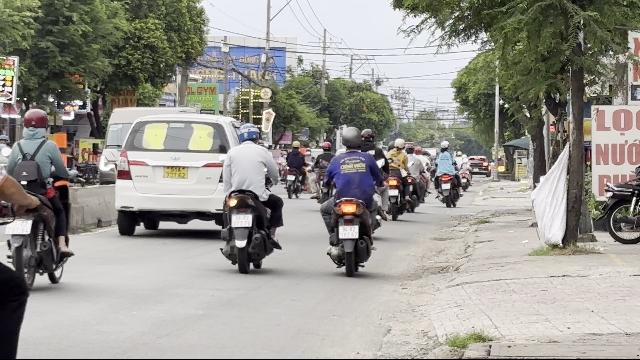helmet: (21, 107, 49, 135), (236, 122, 260, 144), (341, 127, 362, 150)
licenseplate: (6, 219, 30, 233), (232, 213, 252, 227), (338, 226, 358, 238)
motorcyclist: (0, 106, 76, 290), (217, 120, 285, 272), (319, 125, 383, 275)
